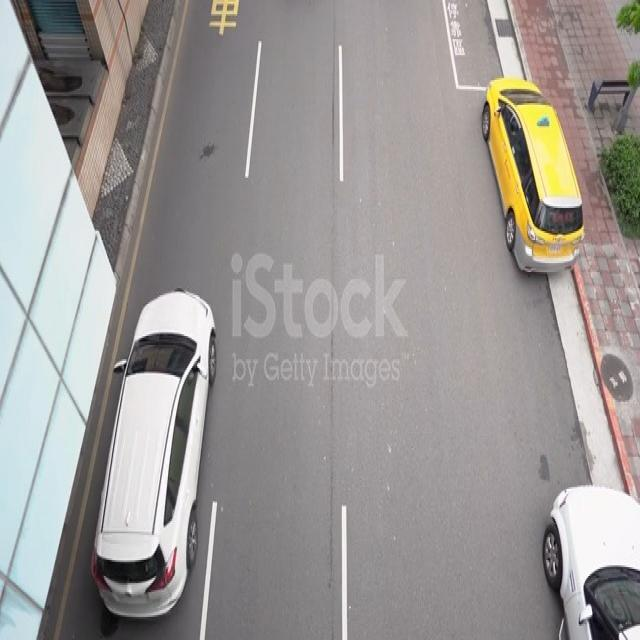Car: (89, 276, 222, 622), (474, 70, 586, 280), (544, 477, 640, 640)
